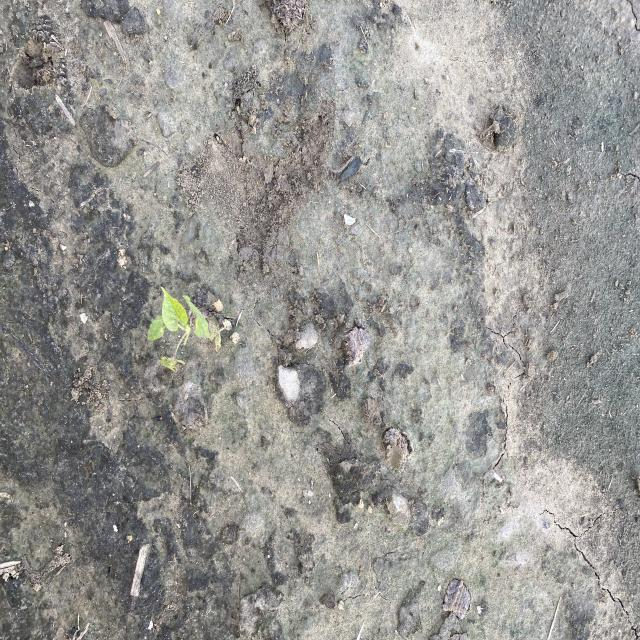MorningGlory: (147, 284, 222, 375)
